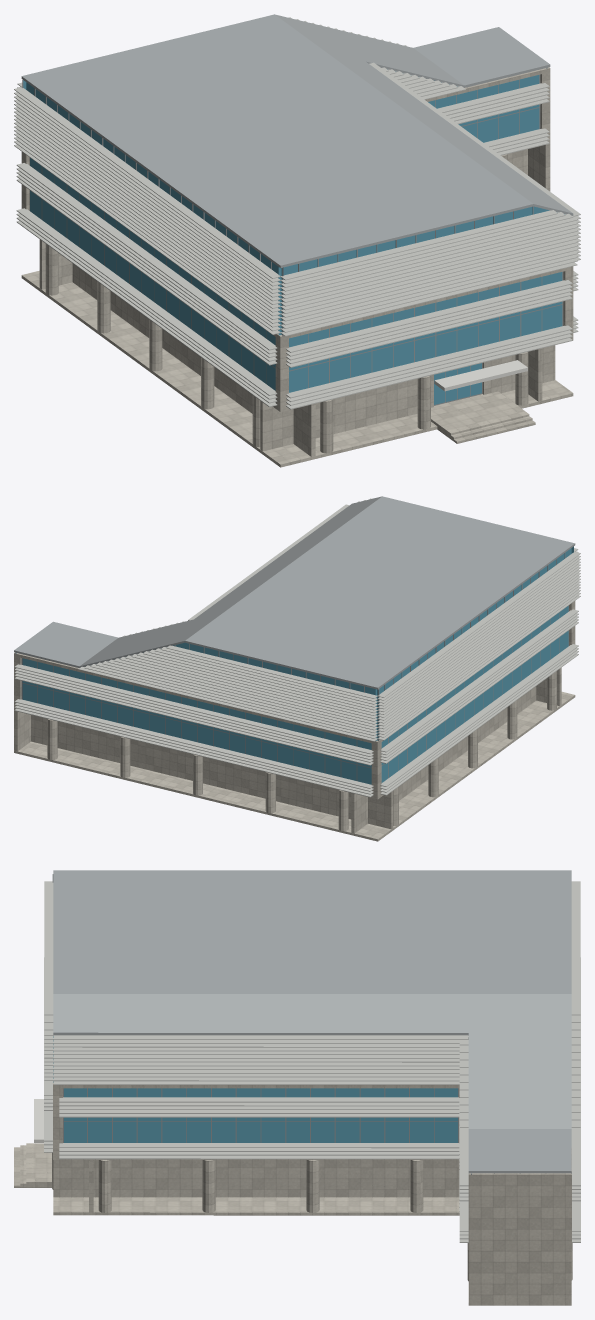
3 views of the same model, one above another, from view 1: azimuth 30°, elevation 25°; view 2: azimuth 150°, elevation 25°; view 3: azimuth 270°, elevation 25° (orthographic). The views are drawn at different scales.
Parts seen in each view (by area): view 1: b105__roof, b105__steel, unist-batch-b105__stair-main, b105__glass, b105__frame, b105__threshold-main, b105__trim; view 2: b105__roof, b105__steel, unist-batch-b105__stair-main, b105__glass, b105__frame; view 3: b105__roof, b105__steel, unist-batch-b105__stair-main, b105__glass, b105__frame, b105__threshold-main.
Part boxes in pixels (x1,y1,x2,y2): b105__roof: [21, 14, 573, 267]; b105__steel: [14, 17, 580, 409]; unist-batch-b105__stair-main: [21, 67, 573, 467]; b105__glass: [23, 68, 564, 404]; b105__frame: [22, 74, 563, 405]; b105__threshold-main: [431, 391, 525, 436]; b105__trim: [434, 360, 527, 391]; b105__roof: [14, 496, 575, 689]; b105__steel: [14, 498, 580, 797]; unist-batch-b105__stair-main: [14, 601, 575, 841]; b105__glass: [16, 546, 573, 784]; b105__frame: [15, 553, 568, 780]; b105__roof: [53, 870, 571, 1173]; b105__steel: [44, 881, 580, 1242]; unist-batch-b105__stair-main: [14, 1081, 572, 1305]; b105__glass: [53, 1036, 457, 1142]; b105__frame: [52, 874, 571, 1174]; b105__threshold-main: [32, 1143, 51, 1187].
Size of the model in its own units: 40.81 by 16.23 by 41.2.
Materials: 7 (2 with a texture image).
